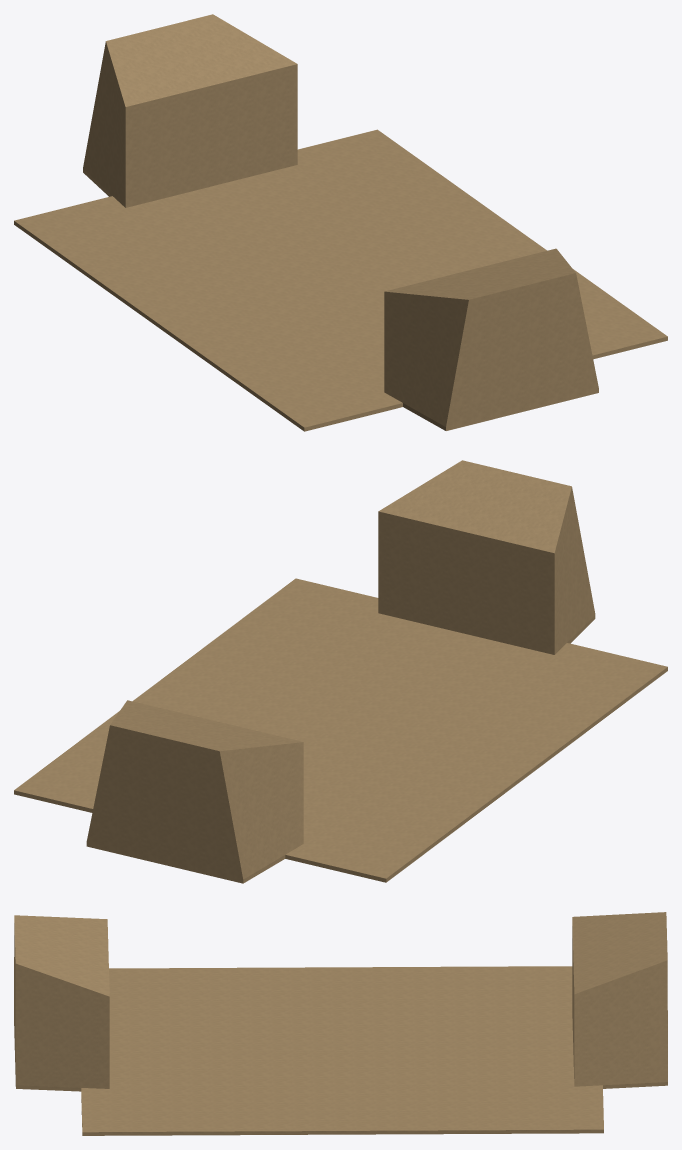
The model's file is yong-gate-interface.placed-roundtrip.glb.
The picture shows the model from 3 angles, top to bottom: view 1: azimuth 30°, elevation 25°; view 2: azimuth 150°, elevation 25°; view 3: azimuth 270°, elevation 25°; orthographic projection. The views are drawn at different scales.
Visible parts, largest first — view 1: yong-apron-C-LOD0, retained_adapter_positive, retained_adapter_negative; view 2: yong-apron-C-LOD0, retained_adapter_negative, retained_adapter_positive; view 3: yong-apron-C-LOD0, retained_adapter_positive, retained_adapter_negative.
Boxes of the visible parts, x1=… form: yong-apron-C-LOD0: x1=14, y1=129, x2=667, y2=431; retained_adapter_positive: x1=83, y1=14, x2=297, y2=207; retained_adapter_negative: x1=384, y1=248, x2=598, y2=426; yong-apron-C-LOD0: x1=14, y1=578, x2=667, y2=883; retained_adapter_negative: x1=378, y1=460, x2=595, y2=654; retained_adapter_positive: x1=86, y1=700, x2=303, y2=879; yong-apron-C-LOD0: x1=14, y1=966, x2=667, y2=1135; retained_adapter_positive: x1=572, y1=912, x2=667, y2=1086; retained_adapter_negative: x1=14, y1=915, x2=109, y2=1088.
Bounding box in the file's own units: 19.3 × 6.23 × 32.09.
1 material, 1 textured.
